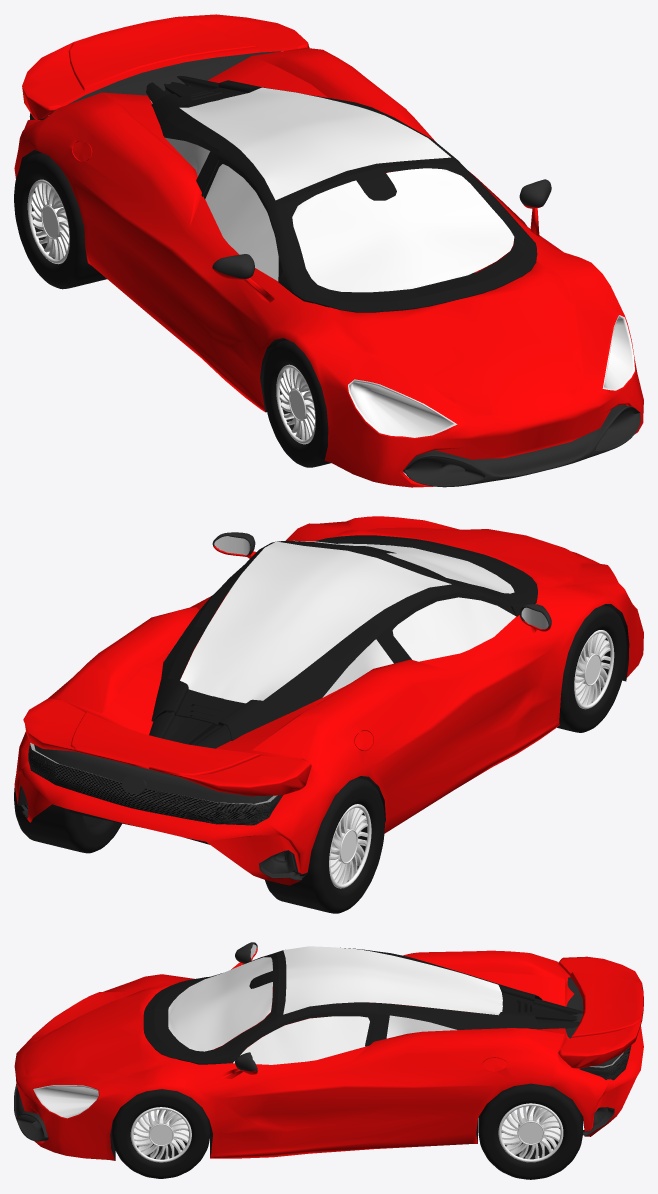
File: mclarencar5.fbx
3 renders of one model, top to bottom at view 1: azimuth 30°, elevation 25°; view 2: azimuth 150°, elevation 25°; view 3: azimuth 270°, elevation 25°, orthographic. The views are drawn at different scales.
Visible parts, largest first — view 1: mainbody, polySurface50, polySurface48, polySurface45, visor1, pCylinder10, detailbumper, pCylinder9, polySurface52, brand, polySurface30, polySurface34 (+1 smaller); view 2: mainbody, polySurface45, polySurface48, visor1, brand, pCylinder10, polySurface52, pCylinder9, polySurface34, pCylinder11, polySurface50, polySurface35 (+1 smaller); view 3: mainbody, polySurface45, polySurface48, pCylinder11, pCylinder8, visor1, polySurface50, polySurface51, polySurface34, brand, polySurface35, detailbumper (+1 smaller).
Part boxes in pixels (<box>): mainbody: <box>14,48,643,487</box>; polySurface50: <box>292,168,514,292</box>; polySurface48: <box>160,88,537,312</box>; polySurface45: <box>179,87,450,200</box>; visor1: <box>22,14,309,119</box>; pCylinder10: <box>14,152,106,289</box>; detailbumper: <box>403,404,640,487</box>; pCylinder9: <box>263,340,330,467</box>; polySurface52: <box>165,137,278,281</box>; brand: <box>29,51,280,120</box>; polySurface30: <box>212,179,551,302</box>; polySurface34: <box>151,80,269,126</box>; mainbody: <box>14,516,643,885</box>; polySurface45: <box>180,541,451,703</box>; polySurface48: <box>161,535,537,711</box>; visor1: <box>23,698,311,796</box>; brand: <box>28,743,283,825</box>; pCylinder10: <box>265,777,384,913</box>; polySurface52: <box>322,597,515,697</box>; pCylinder9: <box>557,605,626,732</box>; polySurface34: <box>151,678,292,740</box>; pCylinder11: <box>14,776,121,853</box>; polySurface50: <box>293,540,514,593</box>; polySurface35: <box>149,712,231,748</box>; mainbody: <box>14,950,643,1160</box>; polySurface45: <box>283,946,502,1015</box>; polySurface48: <box>143,947,498,1064</box>; pCylinder11: <box>478,1083,582,1179</box>; pCylinder8: <box>112,1089,210,1178</box>; visor1: <box>558,956,643,1068</box>; polySurface50: <box>168,957,272,1051</box>; polySurface51: <box>233,1015,456,1064</box>; polySurface34: <box>491,983,542,1029</box>; brand: <box>565,977,631,1080</box>; polySurface35: <box>532,998,582,1028</box>; detailbumper: <box>14,1084,48,1141</box>.
Size of the model in its own units: 8.68 by 5.04 by 18.65.
Materials: 9 (1 with a texture image).
